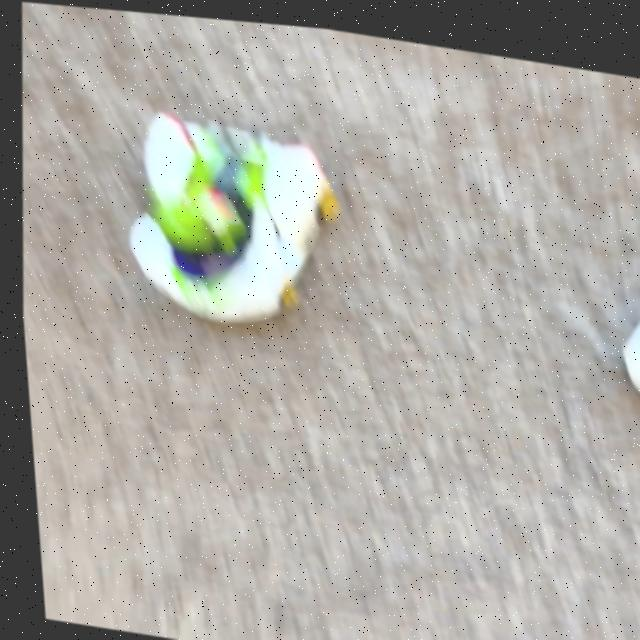yoshi: (104, 71, 383, 361)
